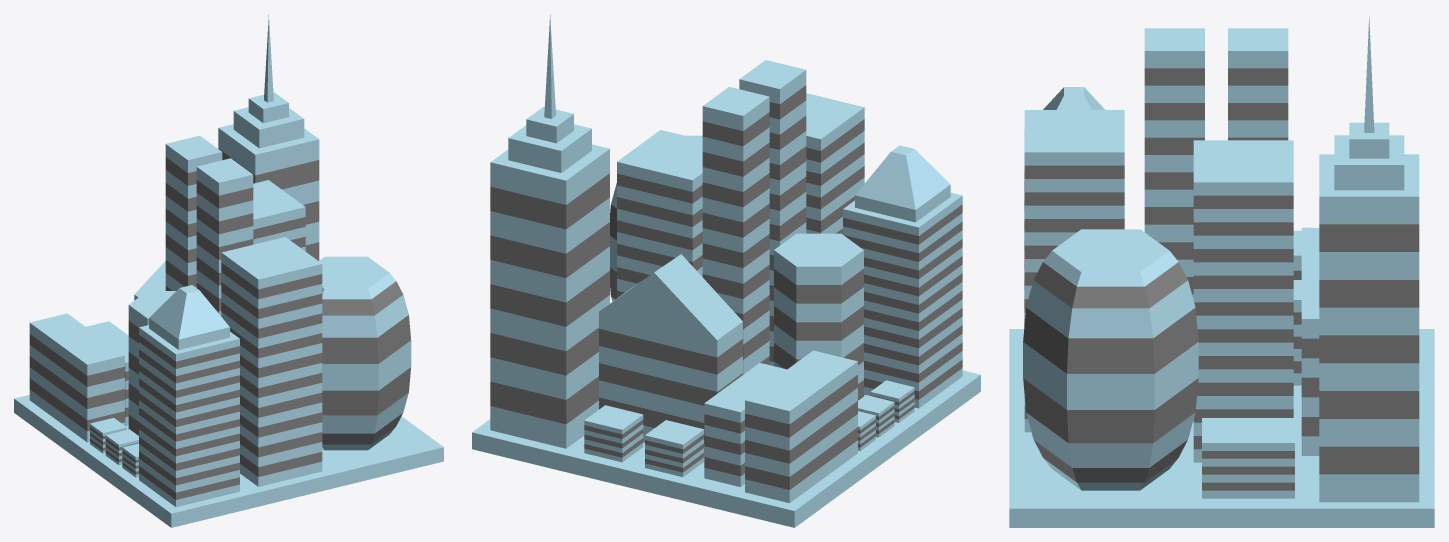
The model's file is city.glb.
The picture shows the model from 3 angles, left to right: view 1: azimuth 30°, elevation 25°; view 2: azimuth 150°, elevation 25°; view 3: azimuth 270°, elevation 25°; orthographic projection. The views are drawn at different scales.
Parts seen in each view (by area): view 1: Cube; view 2: Cube; view 3: Cube.
Part boxes in pixels (x1,y1,x2,y2): Cube: [14, 15, 443, 527]; Cube: [472, 14, 980, 527]; Cube: [1009, 16, 1434, 527].
Size of the model in its own units: 2 by 2.53 by 2.
